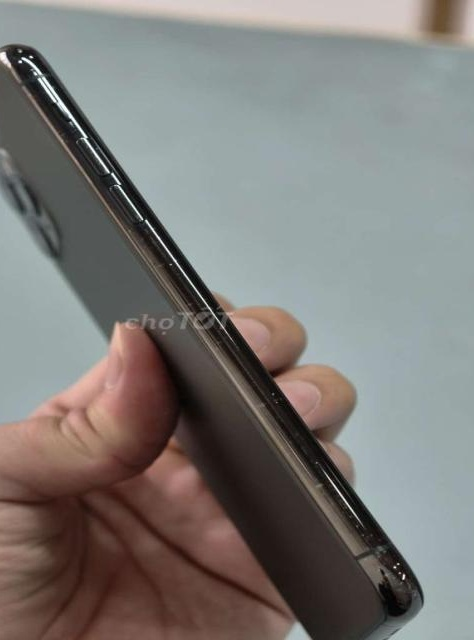scratch: (103, 194, 188, 275), (34, 108, 112, 184), (319, 491, 375, 551), (276, 429, 323, 482), (253, 368, 291, 419), (374, 560, 412, 600), (210, 320, 246, 358), (171, 287, 205, 321)
